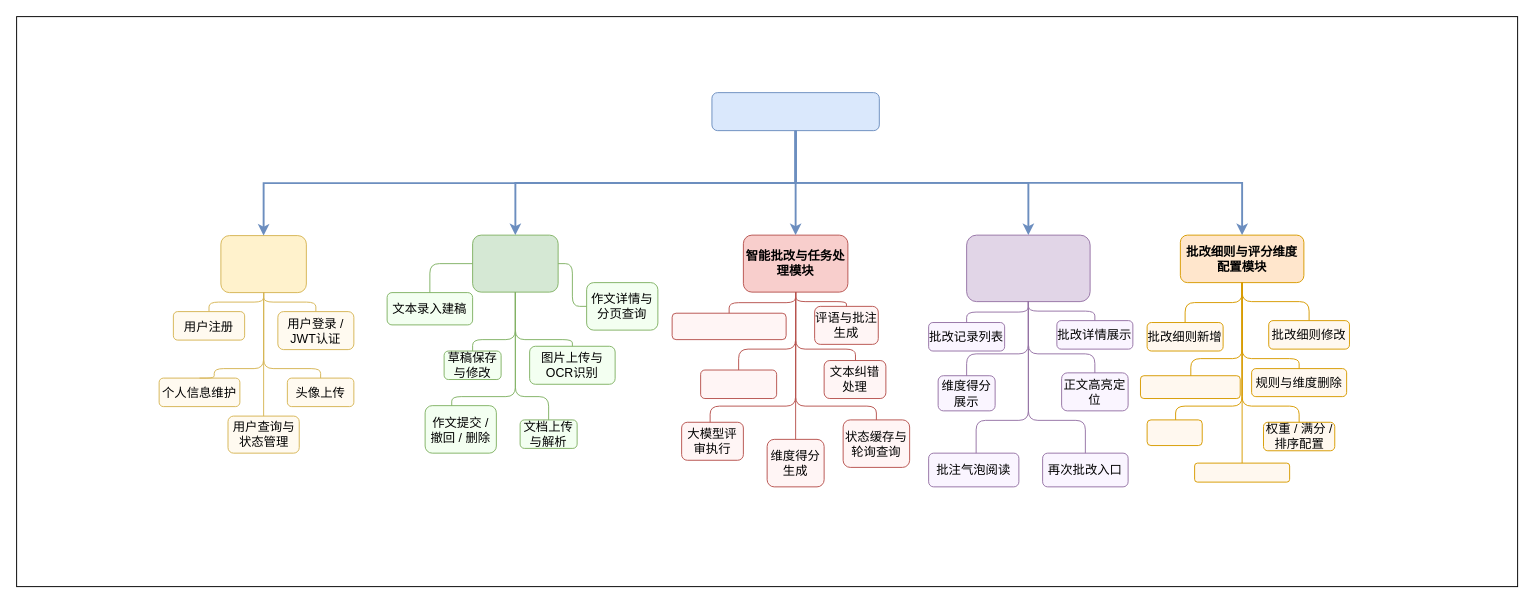
Some shapes in this 1534 by 603 pixel diagram are drawn without their labels. The shapes that lost their labels are listed below. From the top down, each one's centre as x and y in pixels, then its label:
pixel 795 111: 作文智能批改系统
pixel 263 264: 用户与权限管理模块
pixel 515 263: 作文采集与管理模块
pixel 1028 268: 批改结果展示与批注阅读模块
pixel 728 326: RabbitMQ异步调度
pixel 738 384: 批改任务创建
pixel 1190 387: 细则启用 / 禁用
pixel 1174 432: 评分维度新增
pixel 1242 472: 评分维度编辑
